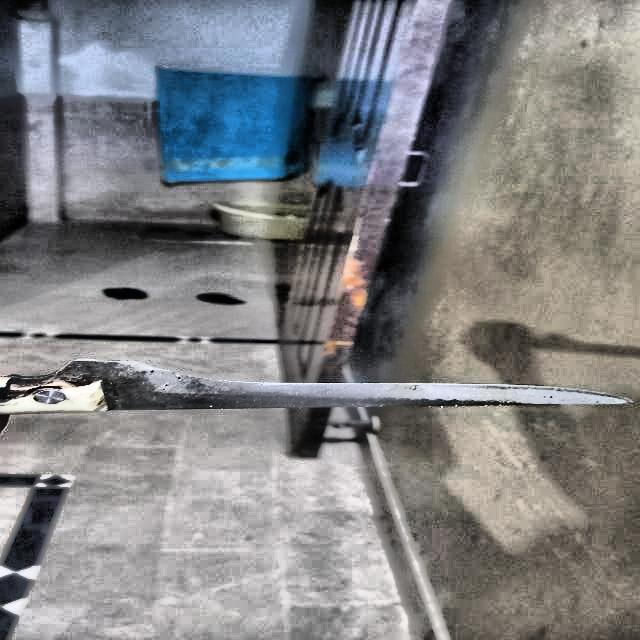knife: (3, 360, 632, 411)
